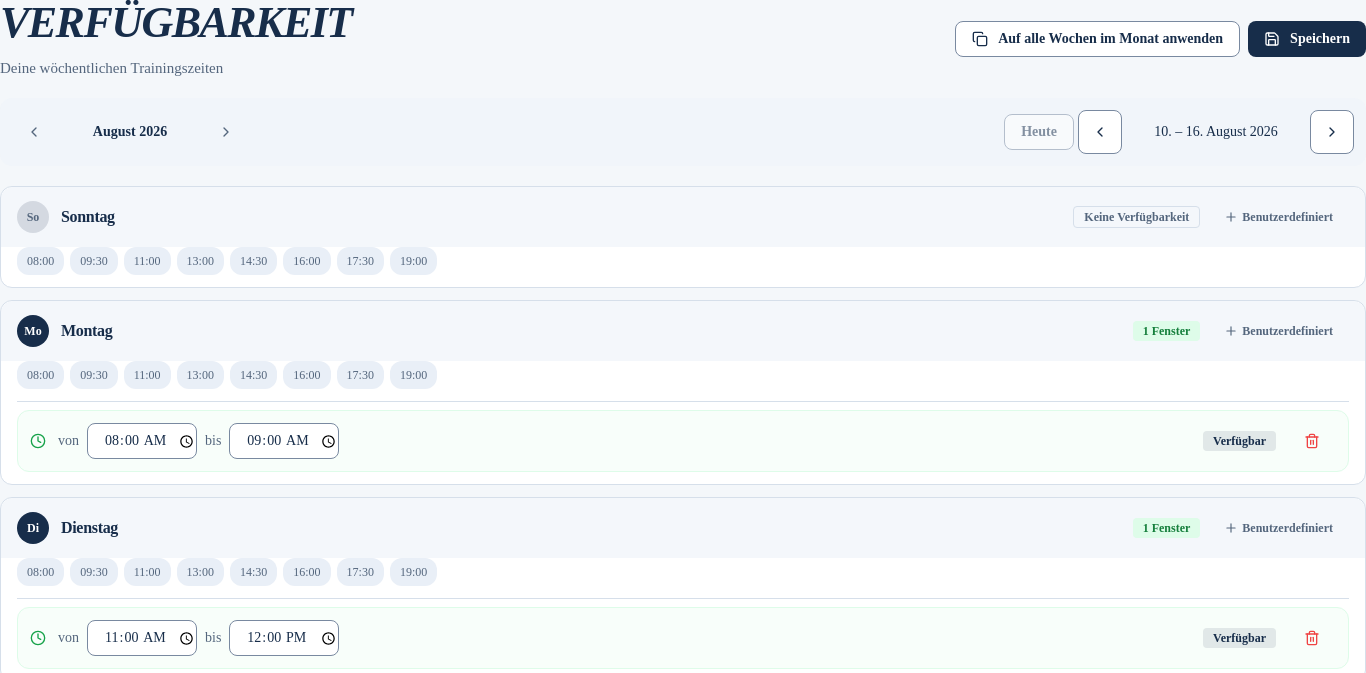
Test case: TrainerAvailabilityManager (integration) › saveSlots DELETEs API slots that were removed from the UI
This screenshot has width=1366, height=673.
Check: the button "Speichern" is shown, box [1248,21,1365,57]
Click the button "11:00" below "Dienstag" at (147, 572), box [124,558,171,586]
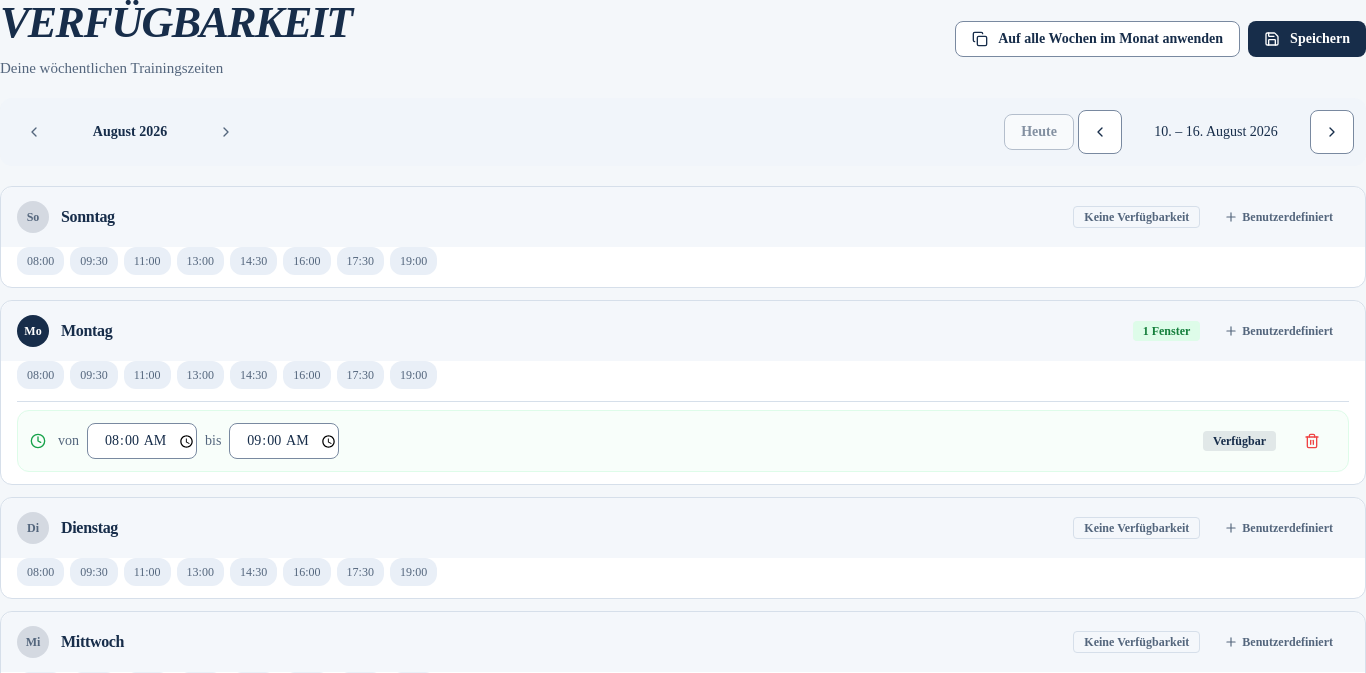
// Click Speichern
Click the button "Speichern" at (1307, 39), box [1248,21,1365,57]
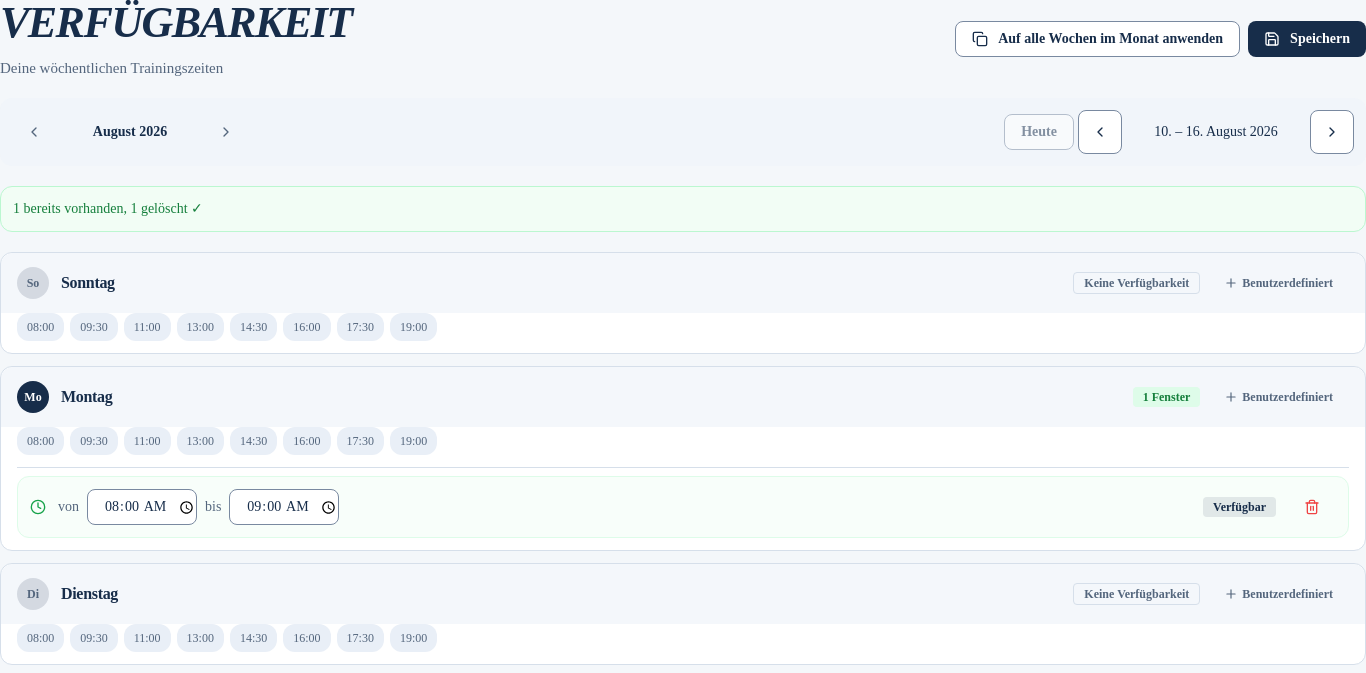
Check: the text "1 bereits vorhanden" is shown, box [13,201,203,216]
Check: the text "1 gelöscht" is shown, box [13,201,203,216]
